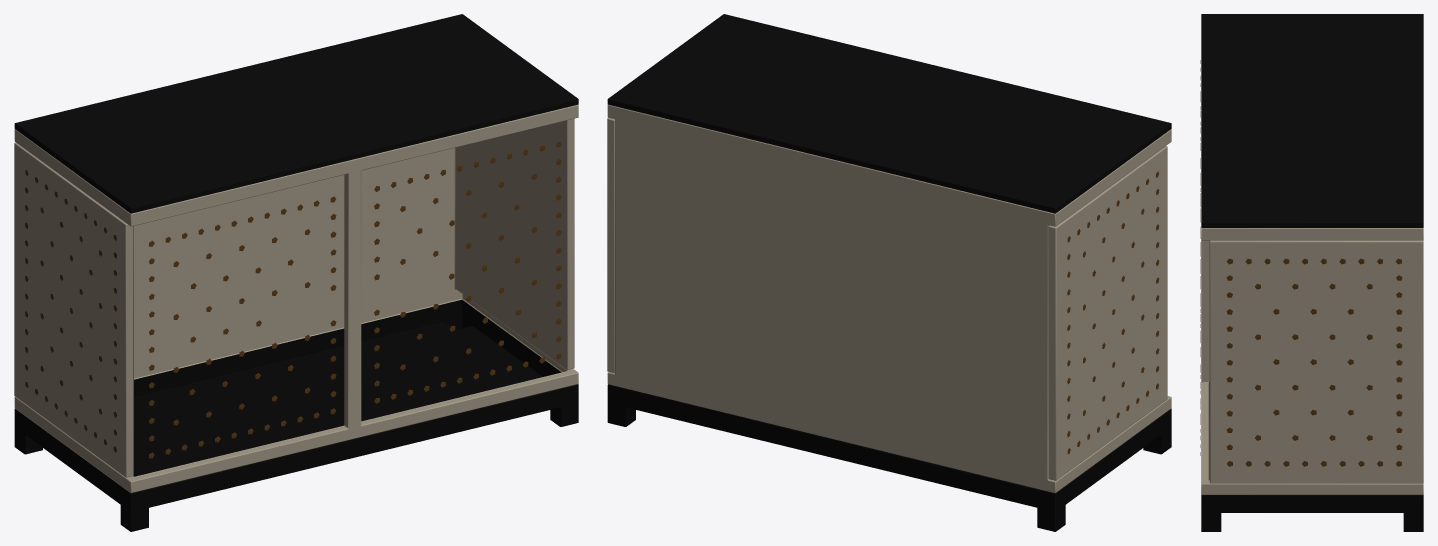
3 renders of one model, left to right at view 1: azimuth 30°, elevation 25°; view 2: azimuth 150°, elevation 25°; view 3: azimuth 270°, elevation 25°, orthographic. The views are drawn at different scales.
Parts seen in each view (by area): view 1: Part1 (×6); view 2: Part1 (×6); view 3: Part1 (×5).
Boxes of the visible parts, x1,y1,x2,y2 form: Part1 (×6): [14, 14, 578, 531]; Part1 (×6): [607, 14, 1171, 531]; Part1 (×5): [1200, 14, 1423, 531].
Bounding box in the file's own units: 1.22 × 0.8394 × 0.5493.
